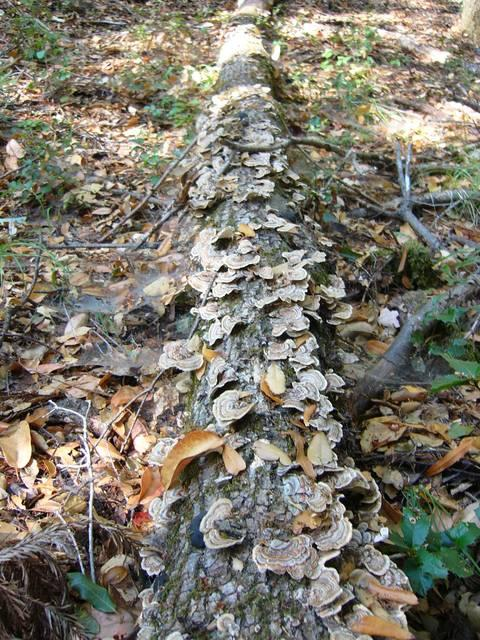Non-edible Mushroom: (114, 1, 422, 639), (197, 496, 247, 550)
